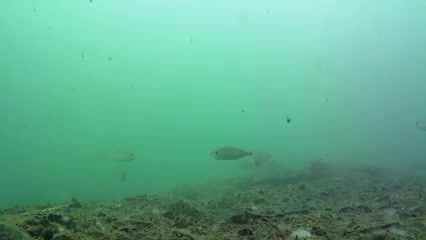smallfish: (206, 141, 254, 162)
